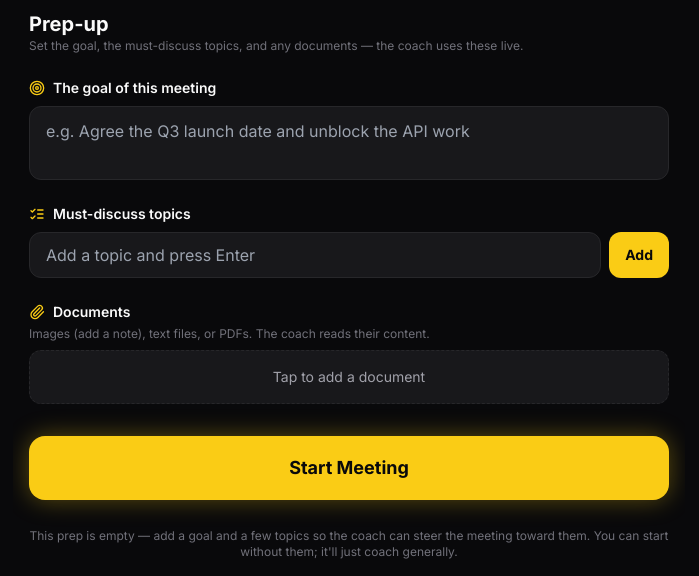
it: MeetingPrepUp › shows an empty-prep nudge until a goal/topic is added, and never disables Start (audit D5)
Expected: the text "The goal of this meeting" is shown, 29,79 -> 216,96
Expected: the text "This prep is empty" is shown, 30,528 -> 668,559
# Add a goal → the nudge disappears (the coach now has something to steer toward).
In the text box with placeholder "e.g. Agree the Q3 launch date and unblock the API work": (349, 143) 29,106 -> 669,180, type "Lock the date"
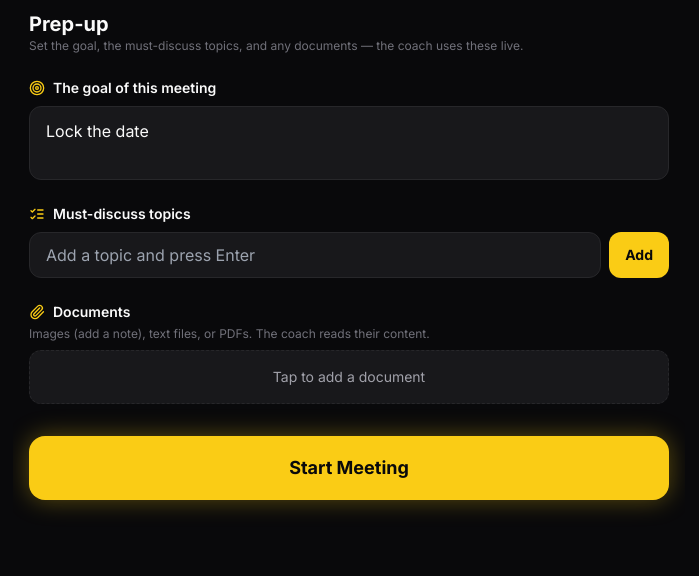
Now the text "This prep is empty" is gone
